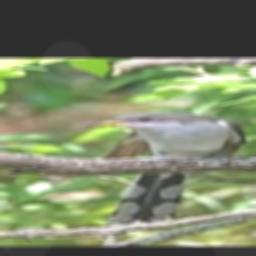Cuckoo: (83, 111, 247, 225)
